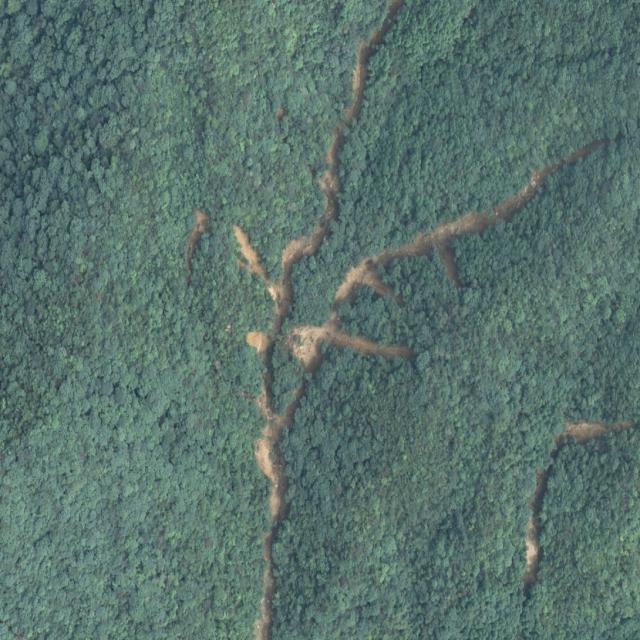landslide: (234, 0, 403, 640), (286, 137, 611, 375), (522, 463, 554, 595), (551, 421, 636, 462)
